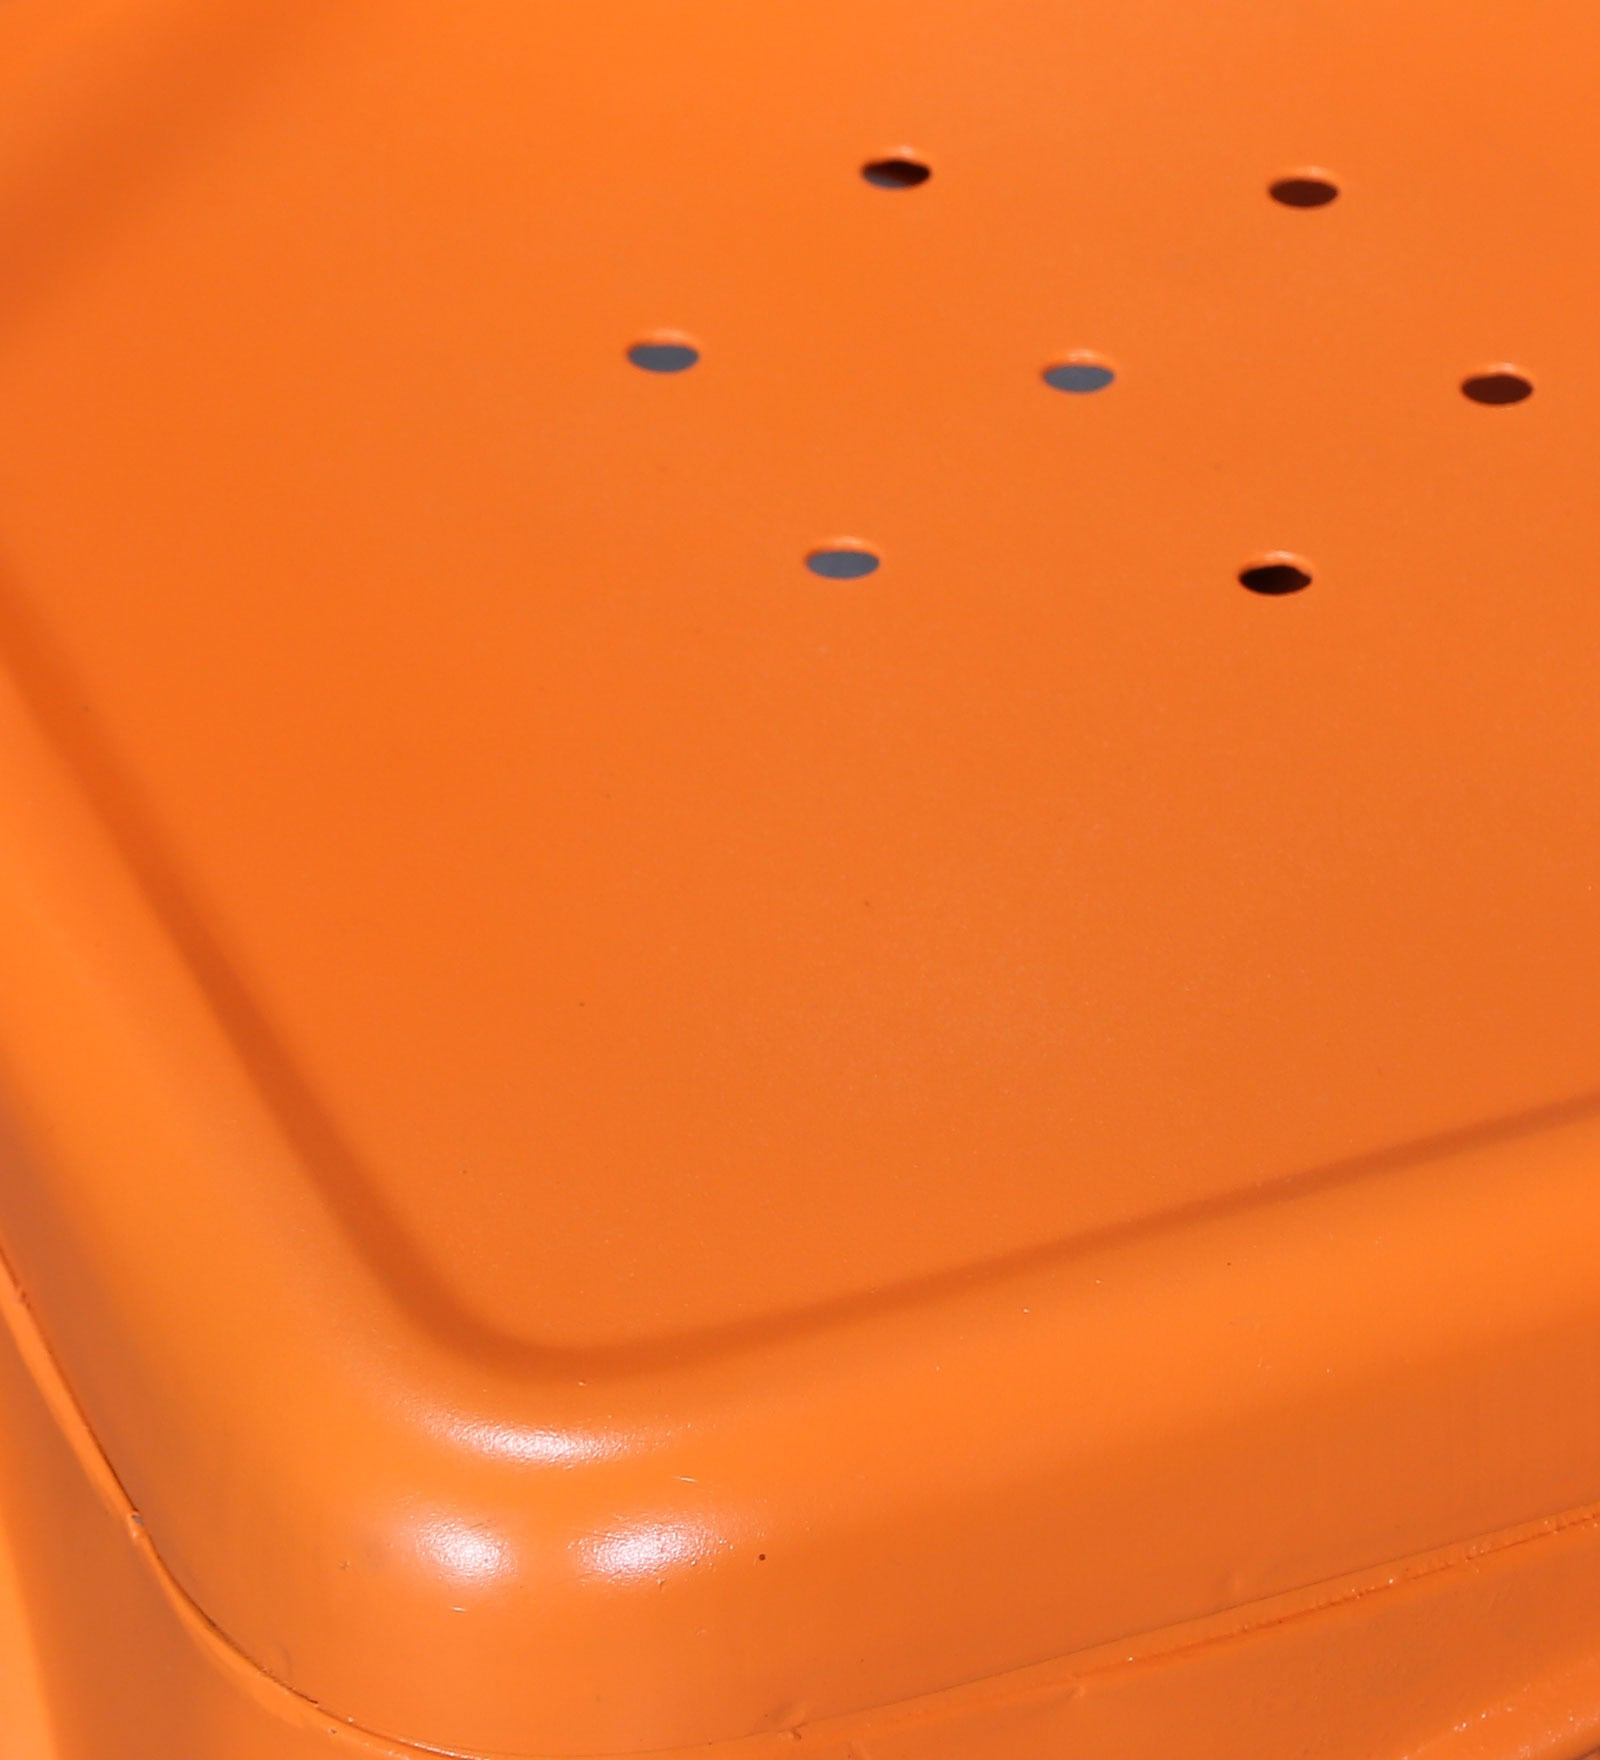Ekati Metal Chair in Orange Color with Eyelet by Bohemiana: (5, 5, 1597, 1760)
